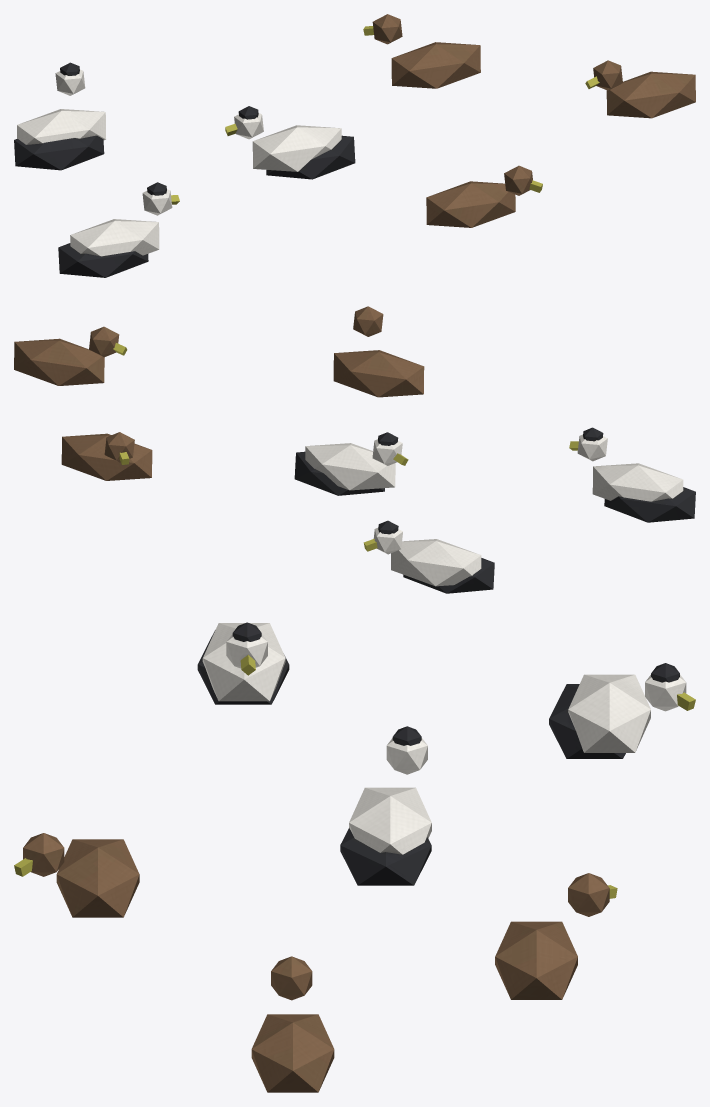
Rendered from ejdrar_tex.glb.
3 views of the same model, one above another, from view 1: azimuth 30°, elevation 25°; view 2: azimuth 150°, elevation 25°; view 3: azimuth 270°, elevation 25° (orthographic). The views are drawn at different scales.
Visible parts, largest first — view 1: ejdrar; view 2: ejdrar; view 3: ejdrar.
Part boxes in pixels (<box>): ejdrar: <box>14,14,695,277</box>; ejdrar: <box>14,306,695,593</box>; ejdrar: <box>14,622,695,1092</box>.
Bounding box in the file's own units: 4.48 × 0.506 × 2.8.
Materials: 4 (3 with a texture image).
